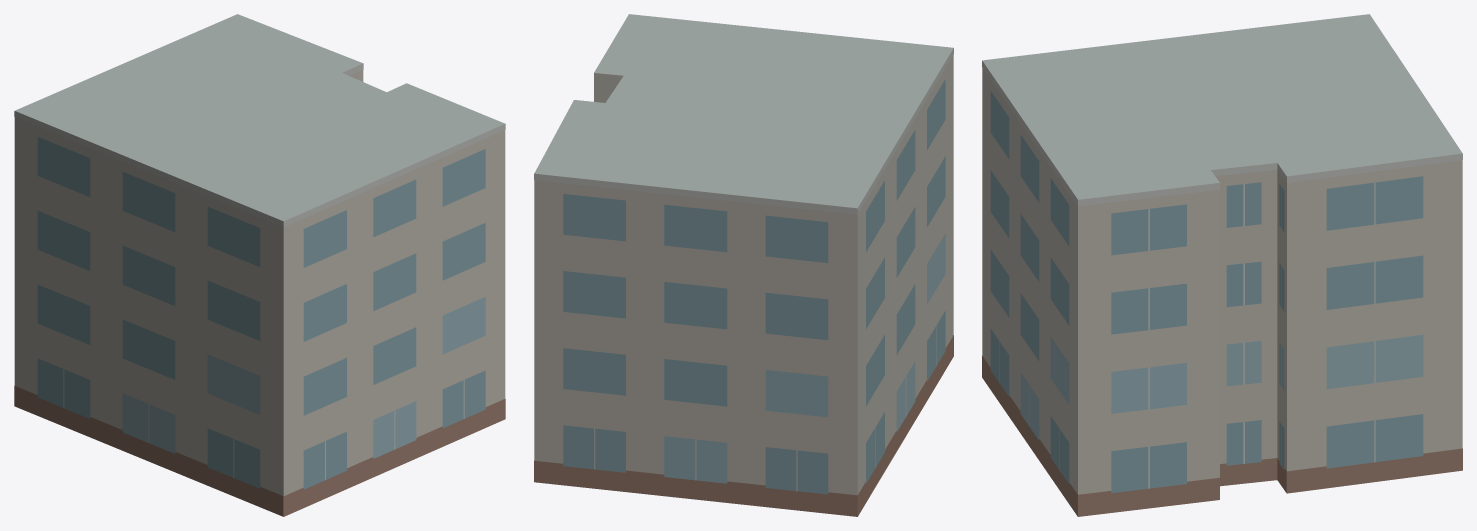
The model's file is survey-upis-32624535.glb.
3 views of the same model, side by side, from view 1: azimuth 30°, elevation 25°; view 2: azimuth 150°, elevation 25°; view 3: azimuth 270°, elevation 25° (orthographic). The views are drawn at different scales.
Visible parts, largest first — view 1: survey-upis-32624535.tmp; view 2: survey-upis-32624535.tmp; view 3: survey-upis-32624535.tmp.
Boxes of the visible parts, left/top/right/bottom form: survey-upis-32624535.tmp: left=14, top=14, right=505, bottom=516; survey-upis-32624535.tmp: left=534, top=14, right=953, bottom=516; survey-upis-32624535.tmp: left=982, top=14, right=1462, bottom=516.
Bounding box in the file's own units: 14.68 × 11.67 × 16.04.
